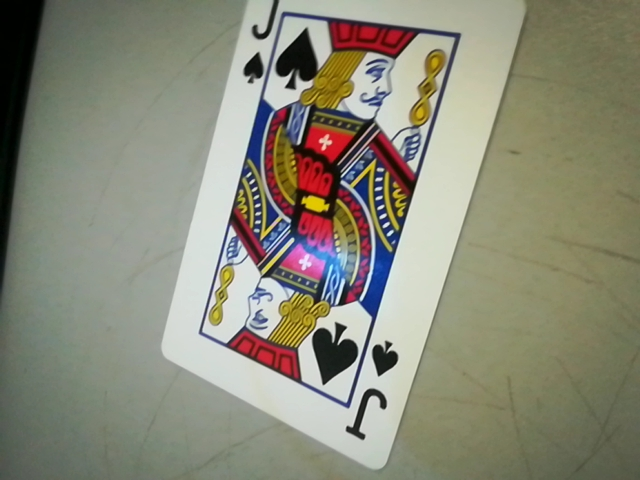ht j: (344, 333, 398, 450)
